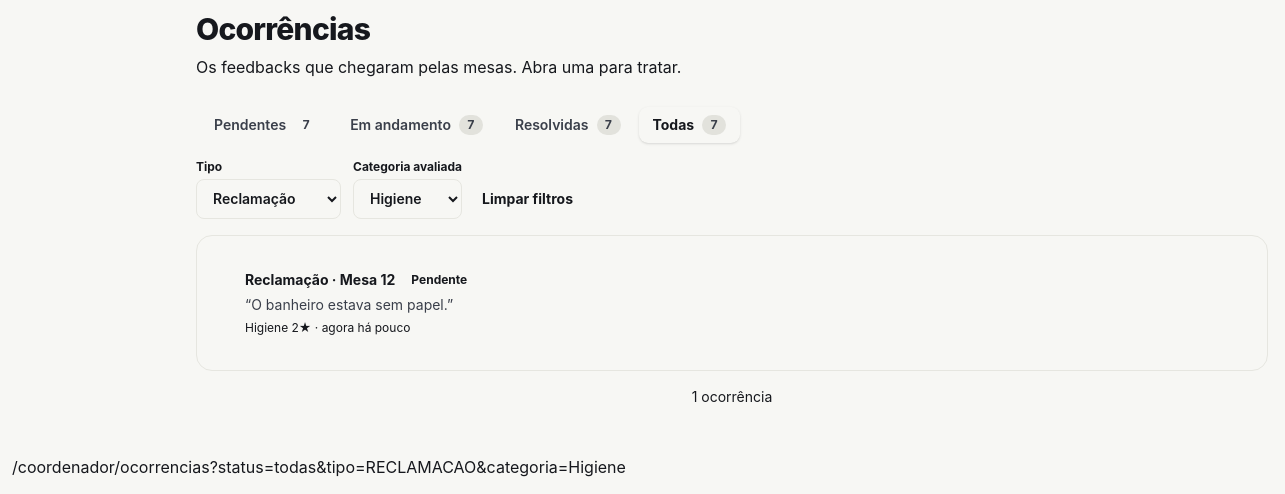
Test: fila de ocorrências: filtros no endereço › "Limpar filtros" tira tipo e categoria e mantém a aba
Click the button "Limpar filtros".
click(528, 198)  # box [474,178,581,218]
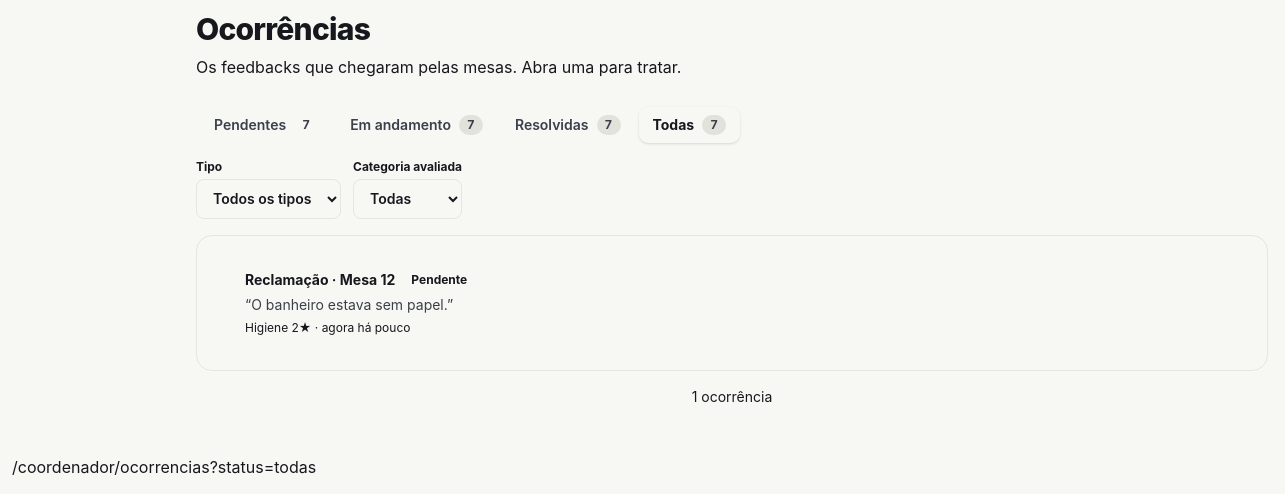
Expected: the text with test id "endereco" reads "/coordenador/ocorrencias?status=todas", [12,457,316,477]
Expected: the button "Limpar filtros" is gone
